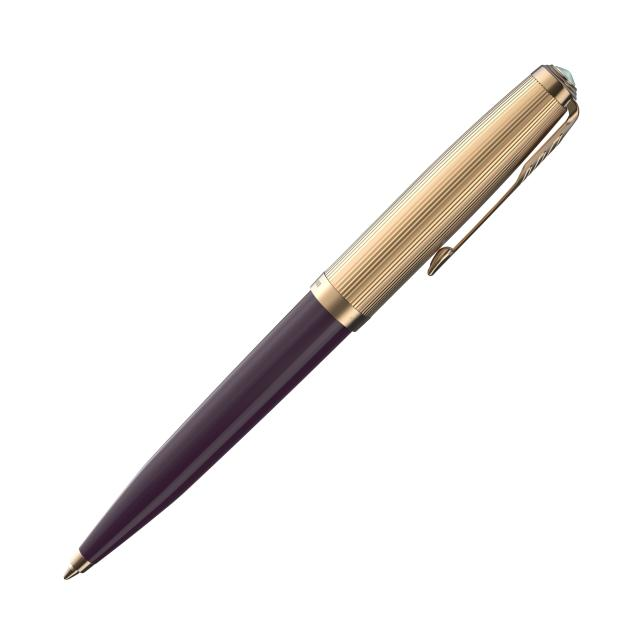pen: (65, 54, 590, 582)
